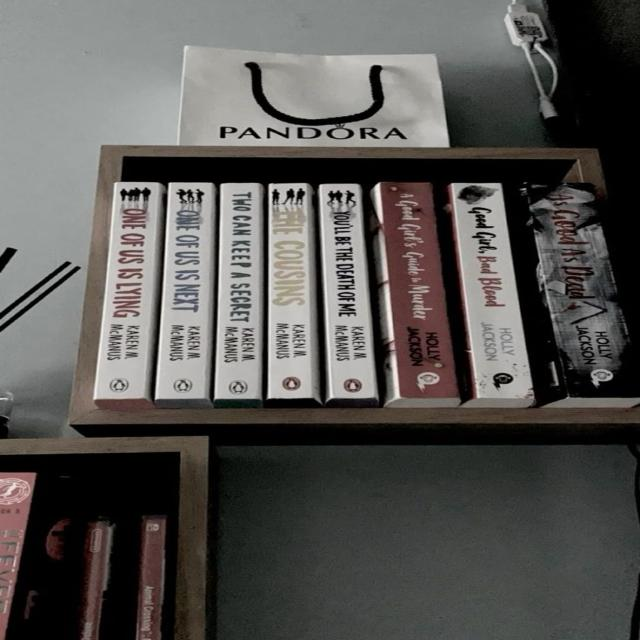book: (530, 182, 630, 397), (371, 182, 459, 406), (448, 183, 534, 407), (94, 183, 164, 401), (156, 183, 216, 407), (318, 183, 378, 406), (266, 183, 321, 404), (213, 183, 263, 407)
